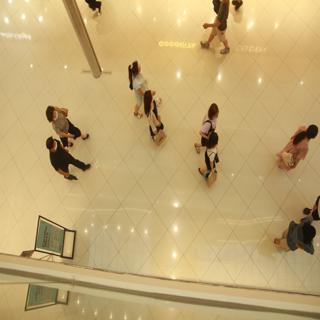person: (33, 127, 100, 191), (277, 116, 319, 180), (273, 210, 320, 265), (44, 101, 94, 147), (192, 134, 231, 186), (138, 85, 171, 142), (123, 57, 154, 108), (199, 96, 229, 130)
